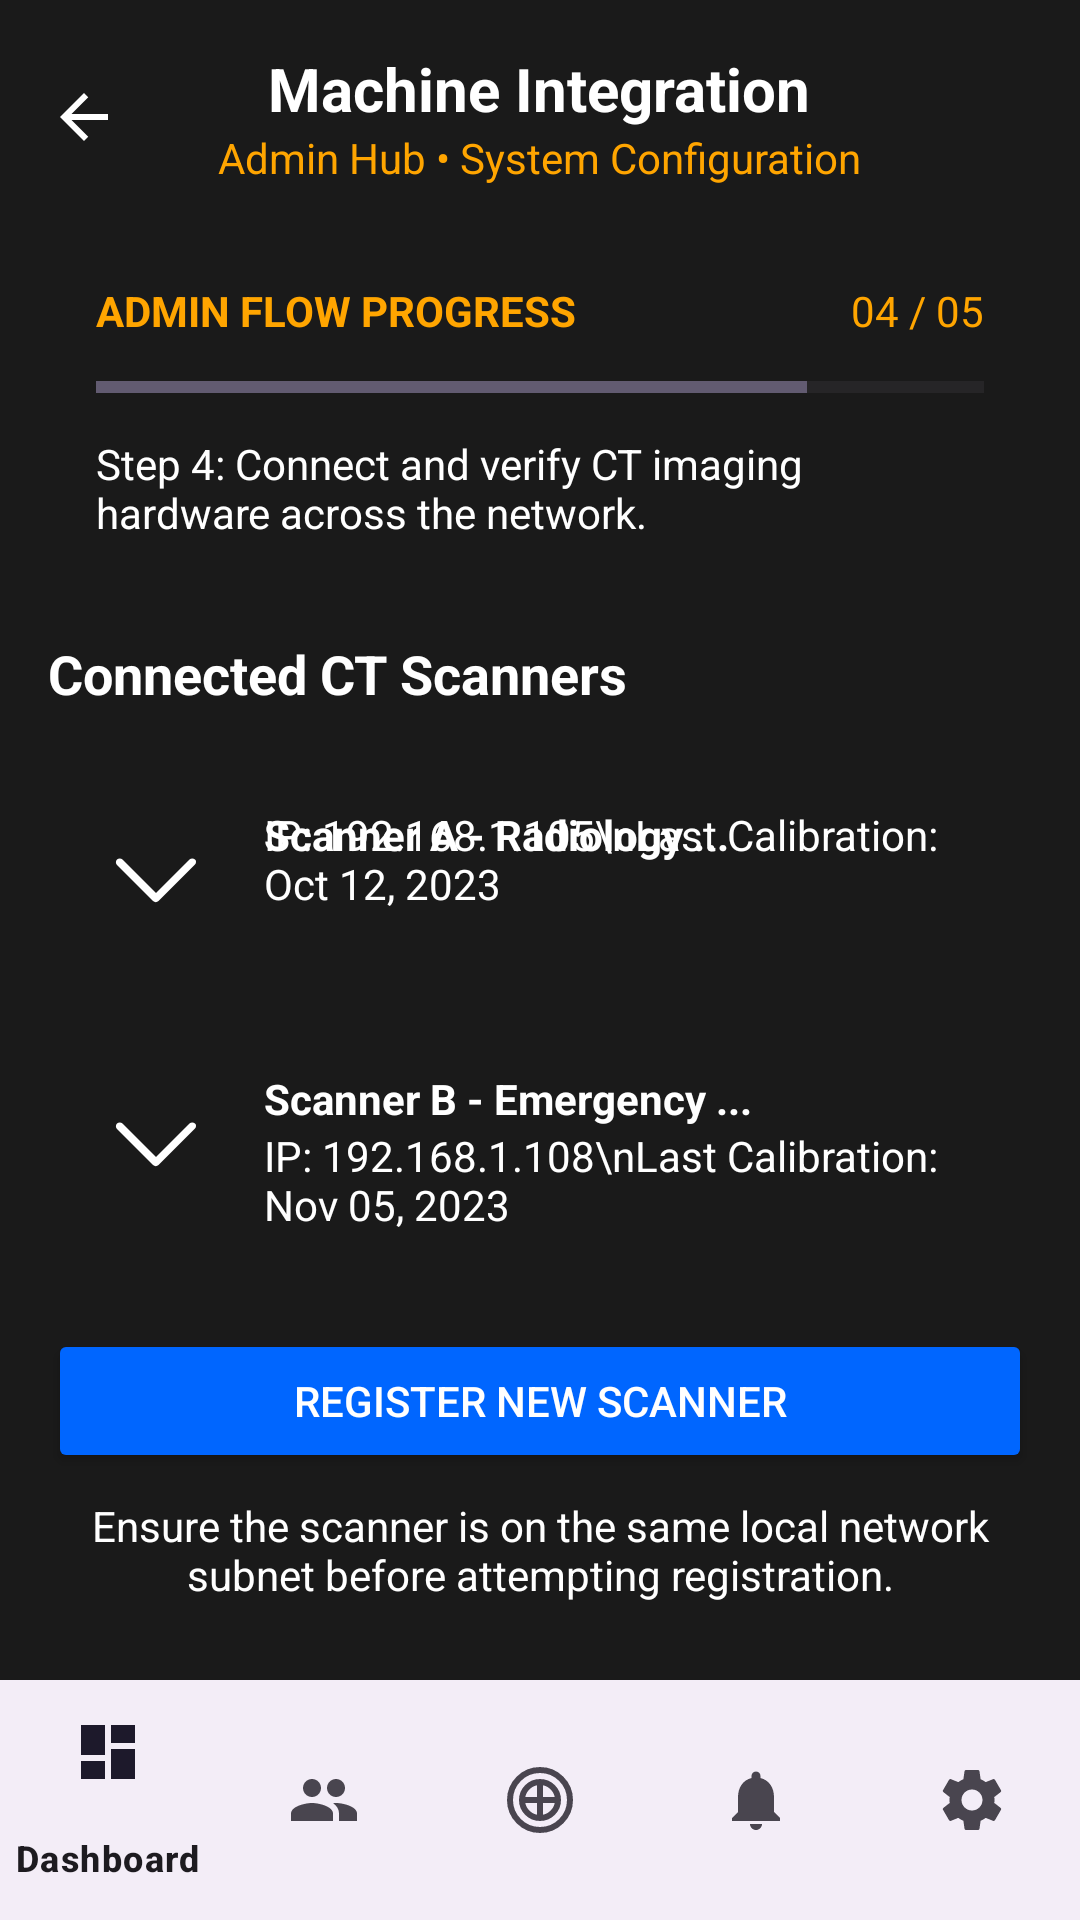

Screen size 1080w x 1920h. Icon name, then its box in pixels as (x1, y1, x2, y2):
arrow back: (60, 93, 108, 141)
